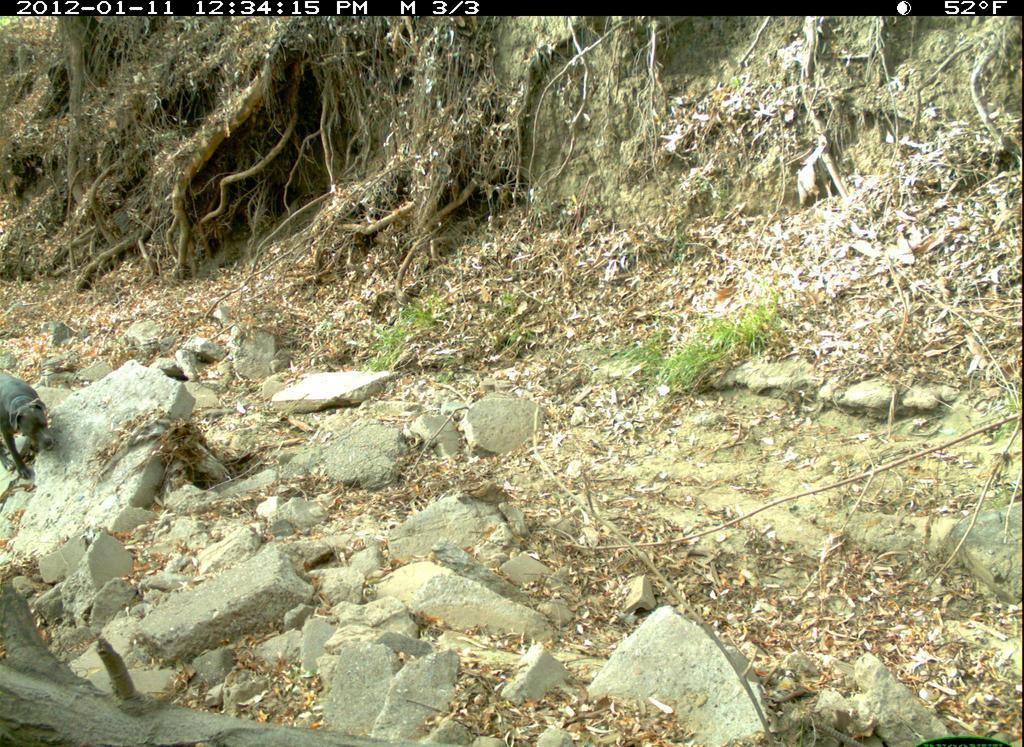dog: (2, 368, 59, 487)
